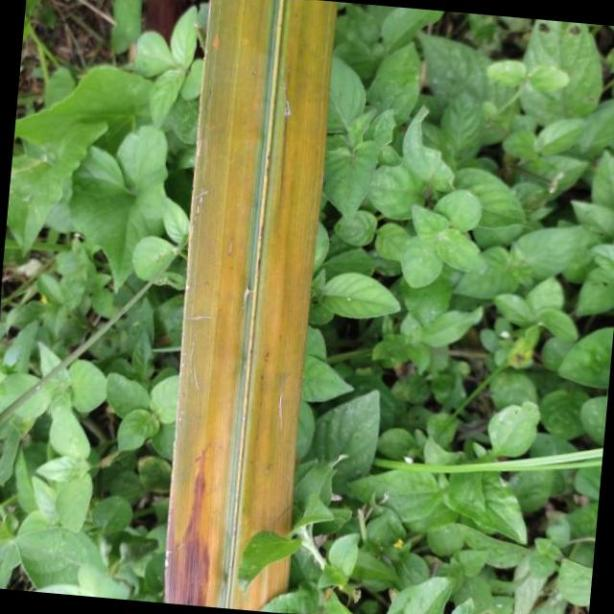Megnesium: (162, 0, 338, 614)
